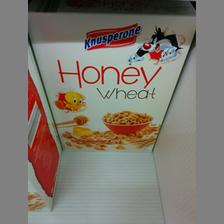Cerealien: (27, 11, 195, 151)
